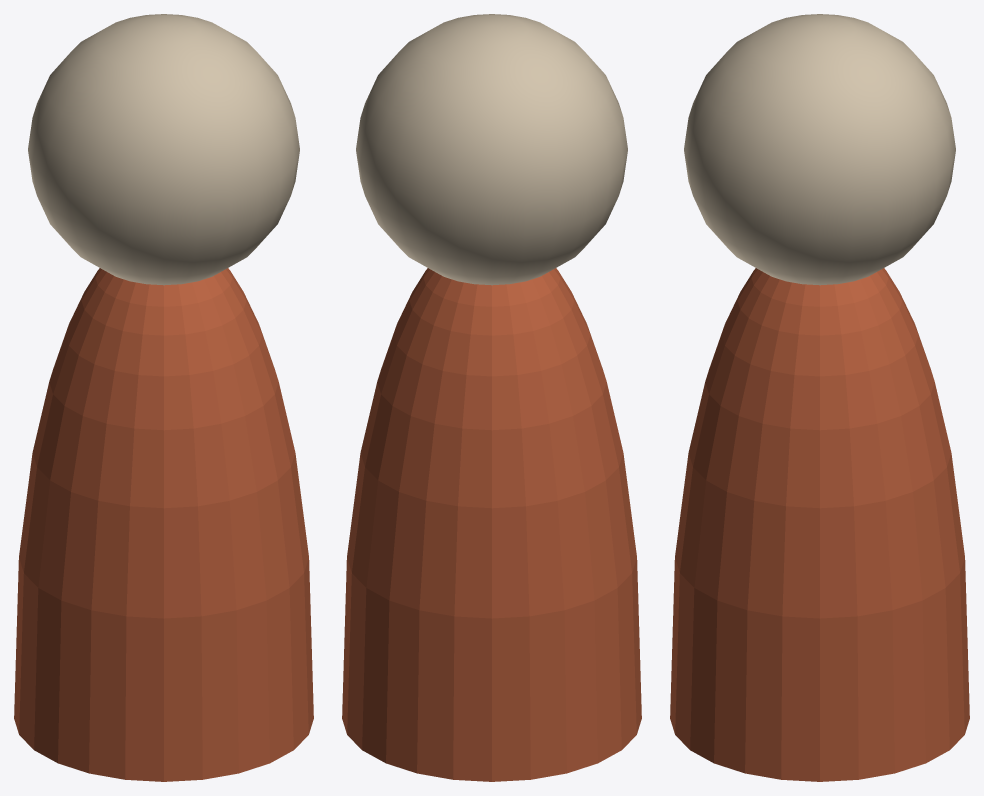
Rendered from Meeple.fbx.
3 views of the same model, side by side, from view 1: azimuth 30°, elevation 25°; view 2: azimuth 150°, elevation 25°; view 3: azimuth 270°, elevation 25° (orthographic).
Parts seen in each view (by area): view 1: Lathe, Sphere; view 2: Lathe, Sphere; view 3: Lathe, Sphere.
Boxes of the visible parts, x1,y1,x2,y2 form: Lathe: (14,268,313,781); Sphere: (28,14,299,285); Lathe: (342,268,641,781); Sphere: (356,14,627,285); Lathe: (670,268,969,781); Sphere: (684,14,955,285).
Bounding box in the file's own units: 200 × 510 × 200.
